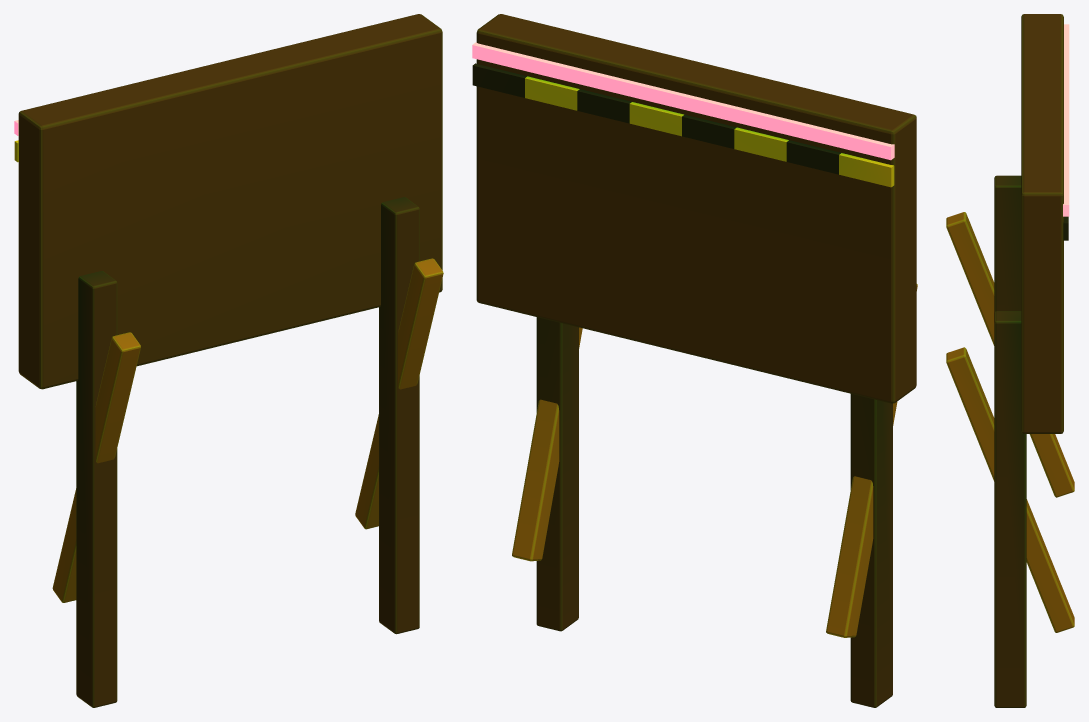
Rendered from platform_edge.glb.
The picture shows the model from 3 angles, left to right: view 1: azimuth 30°, elevation 25°; view 2: azimuth 150°, elevation 25°; view 3: azimuth 270°, elevation 25°; orthographic projection. The views are drawn at different scales.
Visible parts, largest first — view 1: platform_edge; view 2: platform_edge; view 3: platform_edge.
Part boxes in pixels (x1=…): platform_edge: x1=14, y1=14, x2=443, y2=707; platform_edge: x1=472, y1=14, x2=917, y2=707; platform_edge: x1=946, y1=14, x2=1074, y2=707.
Size of the model in its own units: 4 by 5.5 by 1.2.
